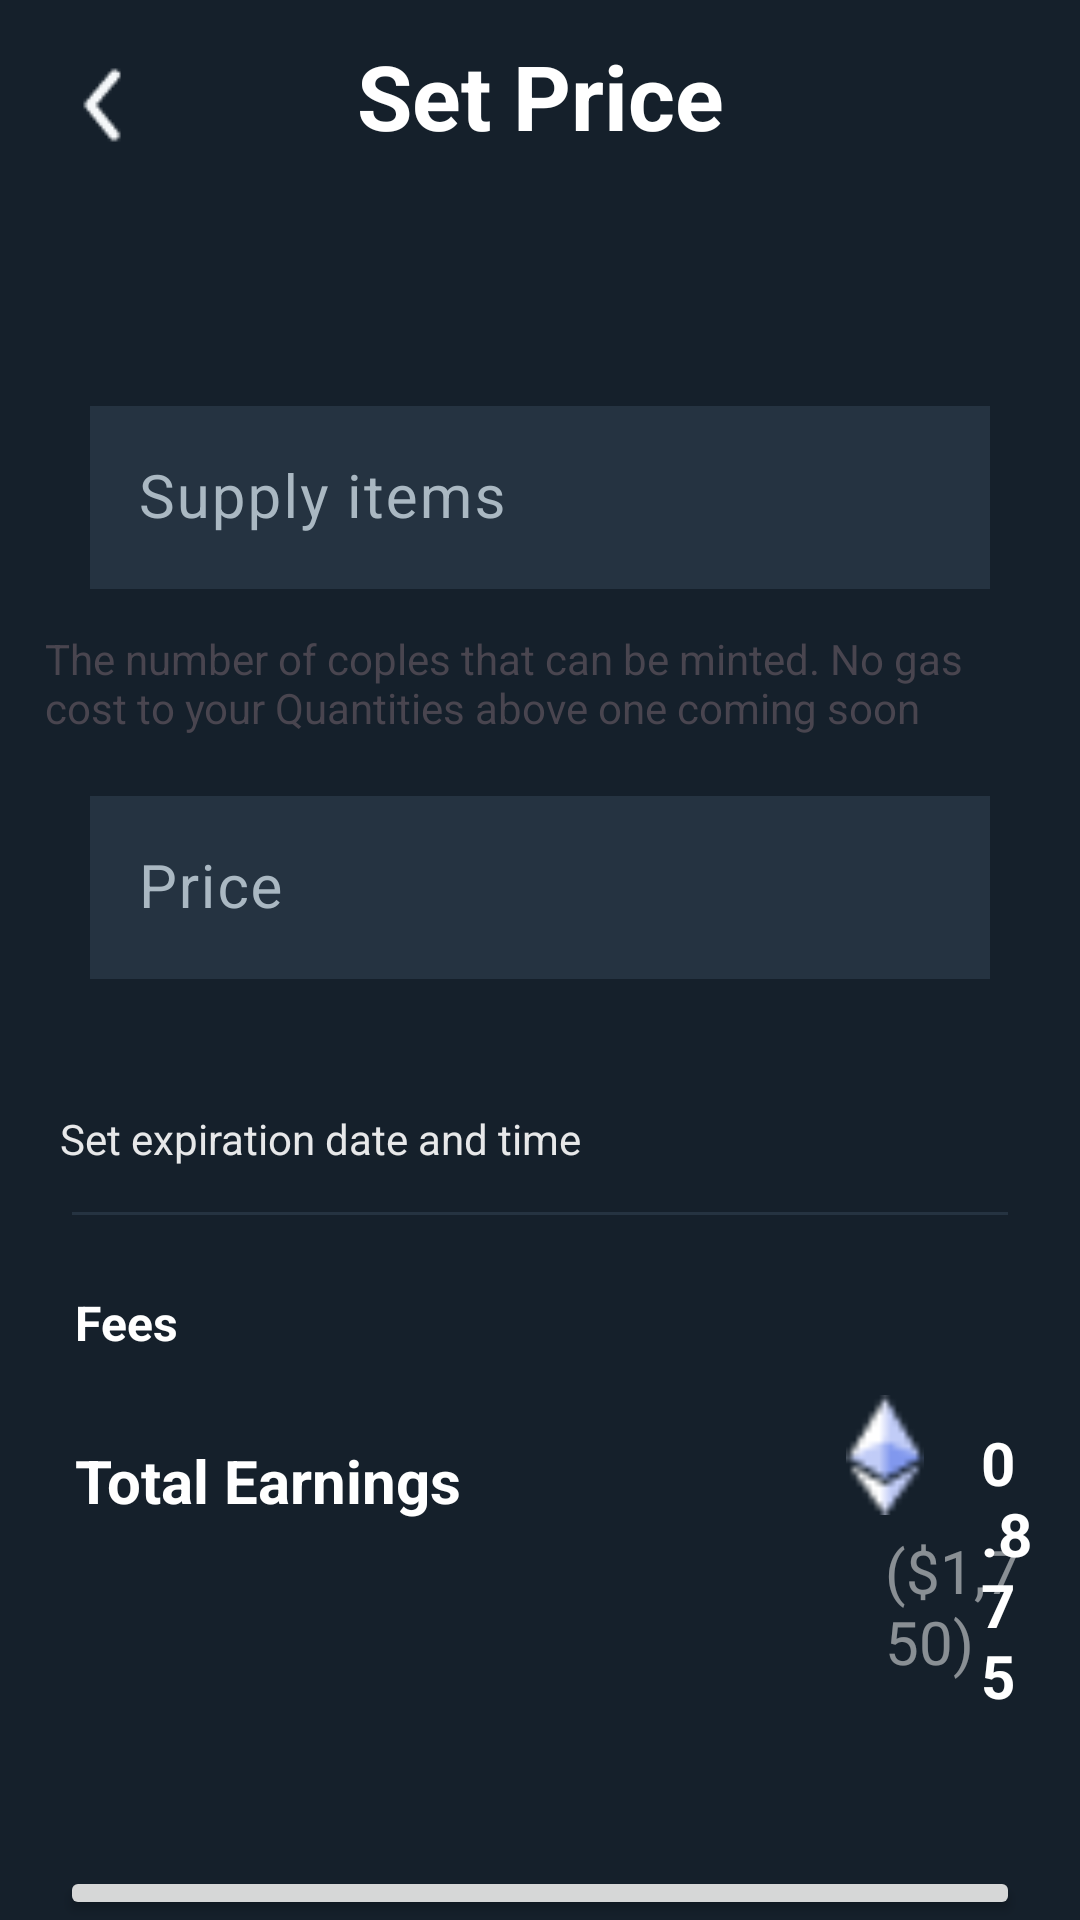

Locate icon controls on the screen. Image size 1080px x 1920px, boxes as (x1, y1, x2, y2).
arrow: (83, 68, 121, 142)
